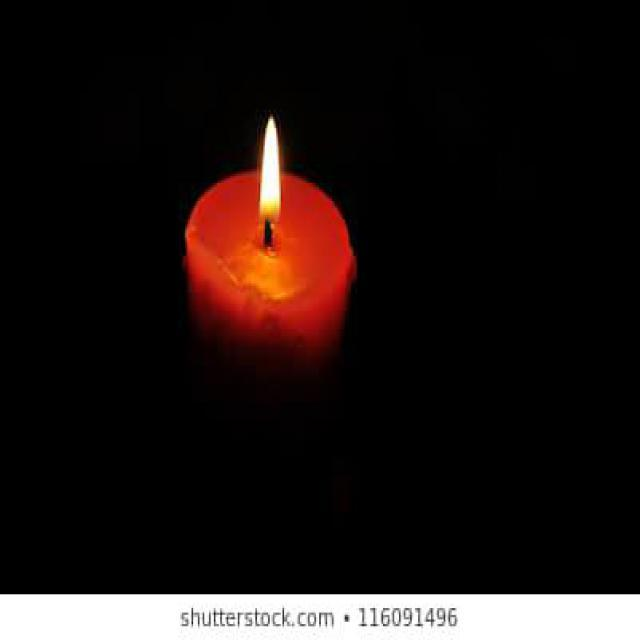Fire: (259, 118, 280, 242)
